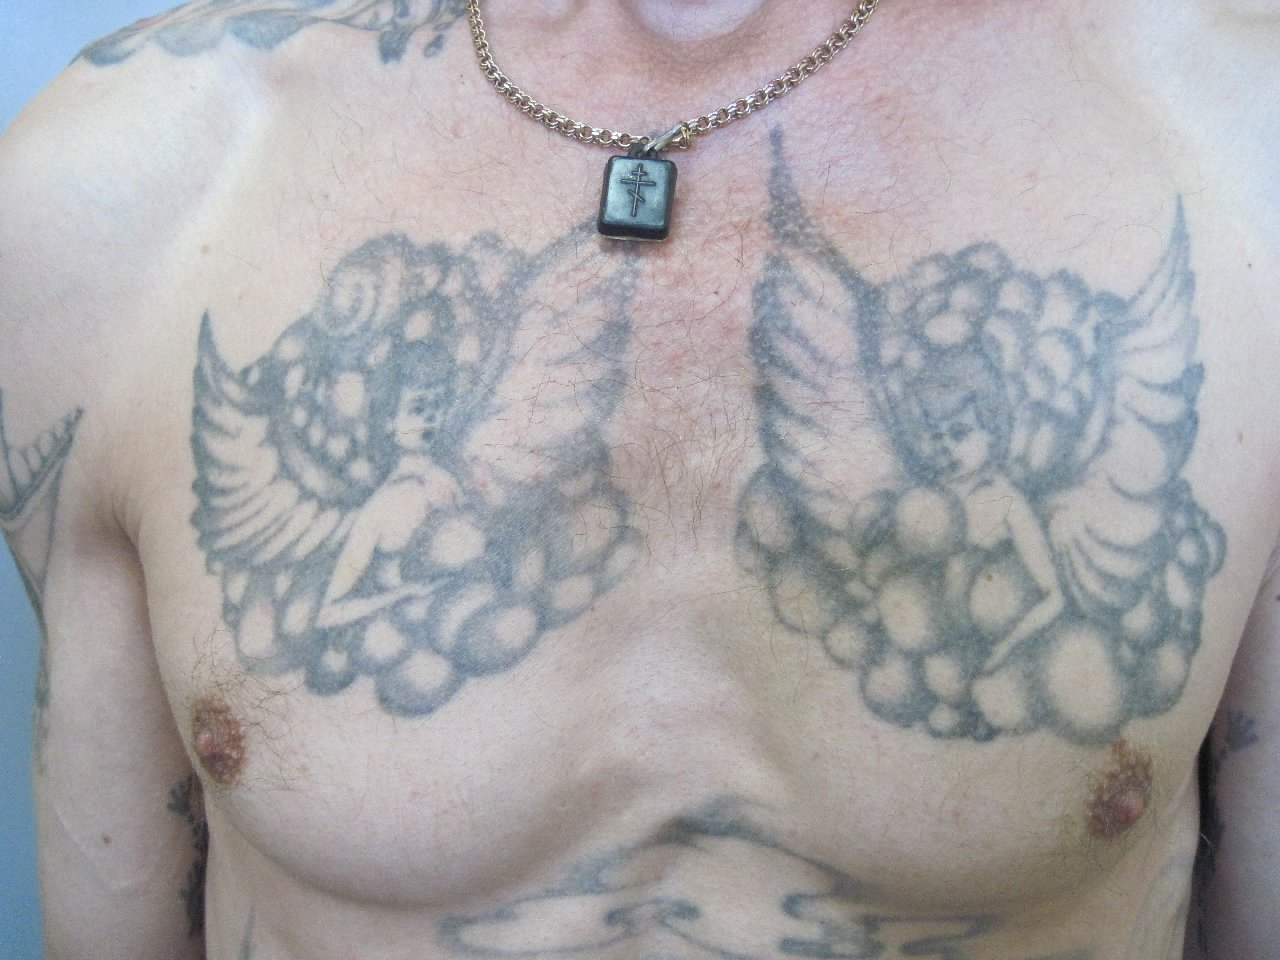tatu1_angel: (733, 176, 1223, 738), (159, 208, 643, 691)
